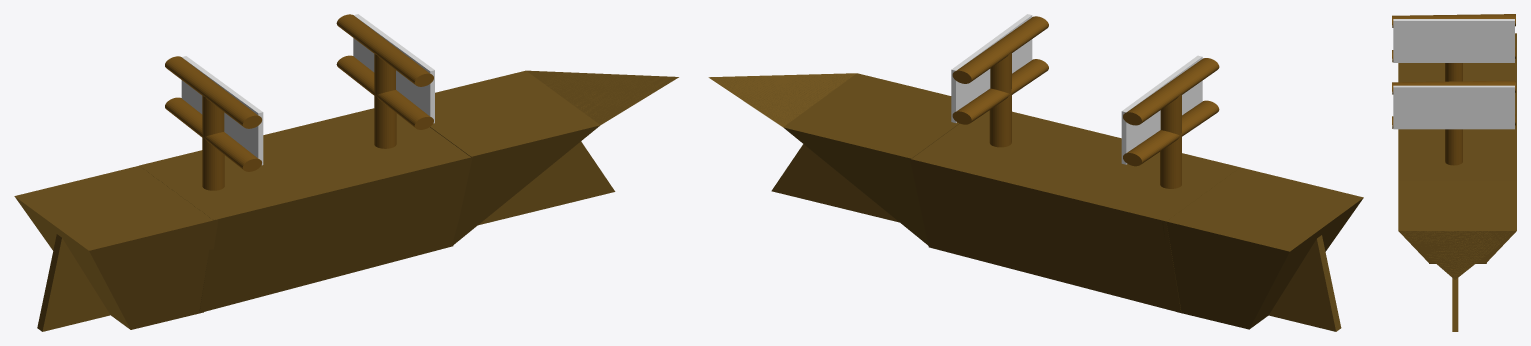
The model's file is player.fbx.
3 renders of one model, left to right at view 1: azimuth 30°, elevation 25°; view 2: azimuth 150°, elevation 25°; view 3: azimuth 270°, elevation 25°, orthographic. The views are drawn at different scales.
Parts seen in each view (by area): view 1: Cube.004, Cylinder.007, Cylinder.004, Cube.002, Cube.001, Cylinder.008, Cylinder.003, Cylinder.006, Cylinder.005; view 2: Cube.004, Cube.002, Cube.001, Cylinder.004, Cylinder.007, Cylinder.005, Cylinder.008, Cylinder.003, Cylinder.006; view 3: Cube.004, Cube.001, Cube.002, Cylinder.005, Cylinder.004, Cylinder.007, Cylinder.006.
Boxes of the visible parts, x1,y1,x2,y2 form: Cube.004: (14, 70, 678, 331); Cylinder.007: (165, 56, 261, 128); Cylinder.004: (336, 14, 433, 86); Cube.002: (181, 56, 263, 165); Cube.001: (353, 14, 434, 123); Cylinder.008: (165, 97, 261, 171); Cylinder.003: (336, 55, 433, 129); Cylinder.006: (202, 95, 224, 190); Cylinder.005: (374, 53, 396, 148); Cube.004: (708, 73, 1363, 331); Cube.002: (1121, 55, 1202, 164); Cube.001: (951, 14, 1032, 122); Cylinder.004: (952, 16, 1048, 83); Cylinder.007: (1123, 58, 1219, 125); Cylinder.005: (989, 53, 1011, 147); Cylinder.008: (1123, 100, 1219, 166); Cylinder.003: (952, 59, 1048, 124); Cylinder.006: (1160, 94, 1181, 188); Cube.004: (1398, 33, 1516, 331); Cube.001: (1393, 85, 1514, 129); Cube.002: (1393, 19, 1514, 62); Cylinder.005: (1445, 129, 1462, 165); Cylinder.004: (1392, 80, 1515, 94); Cylinder.007: (1392, 14, 1515, 27); Cylinder.006: (1445, 63, 1462, 81).
Size of the model in its own units: 98.64 by 30.23 by 21.07.
